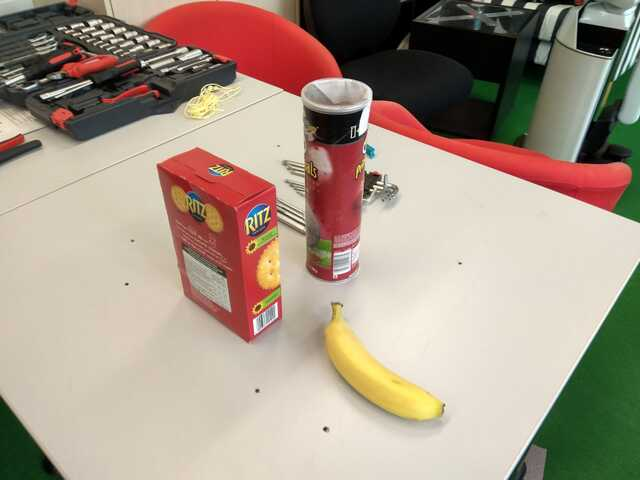001_chips_can: (300, 78, 373, 282)
003_cracker_box: (155, 145, 284, 345)
011_banana: (323, 301, 450, 422)
